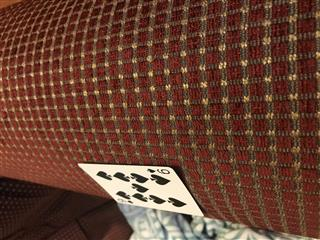NineOfSpades: (76, 161, 205, 217)
